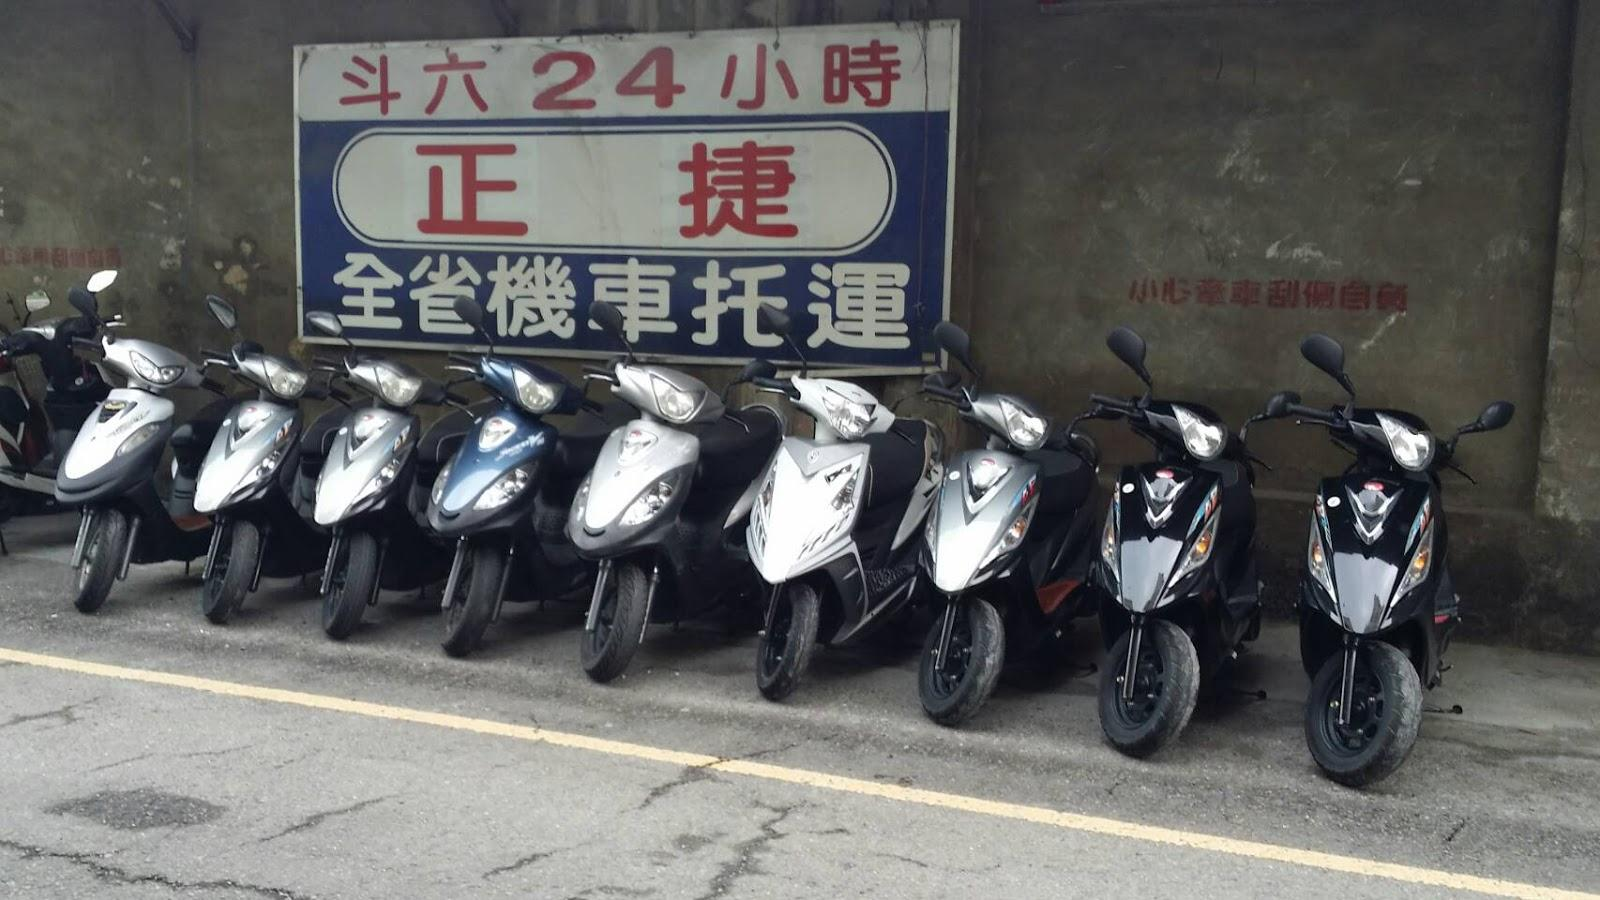motorcycle: (1278, 319, 1518, 791), (1080, 319, 1302, 770), (730, 291, 962, 698), (905, 308, 1102, 722), (563, 291, 775, 674), (49, 251, 220, 615), (301, 291, 468, 636), (432, 293, 576, 655), (187, 281, 342, 615)
